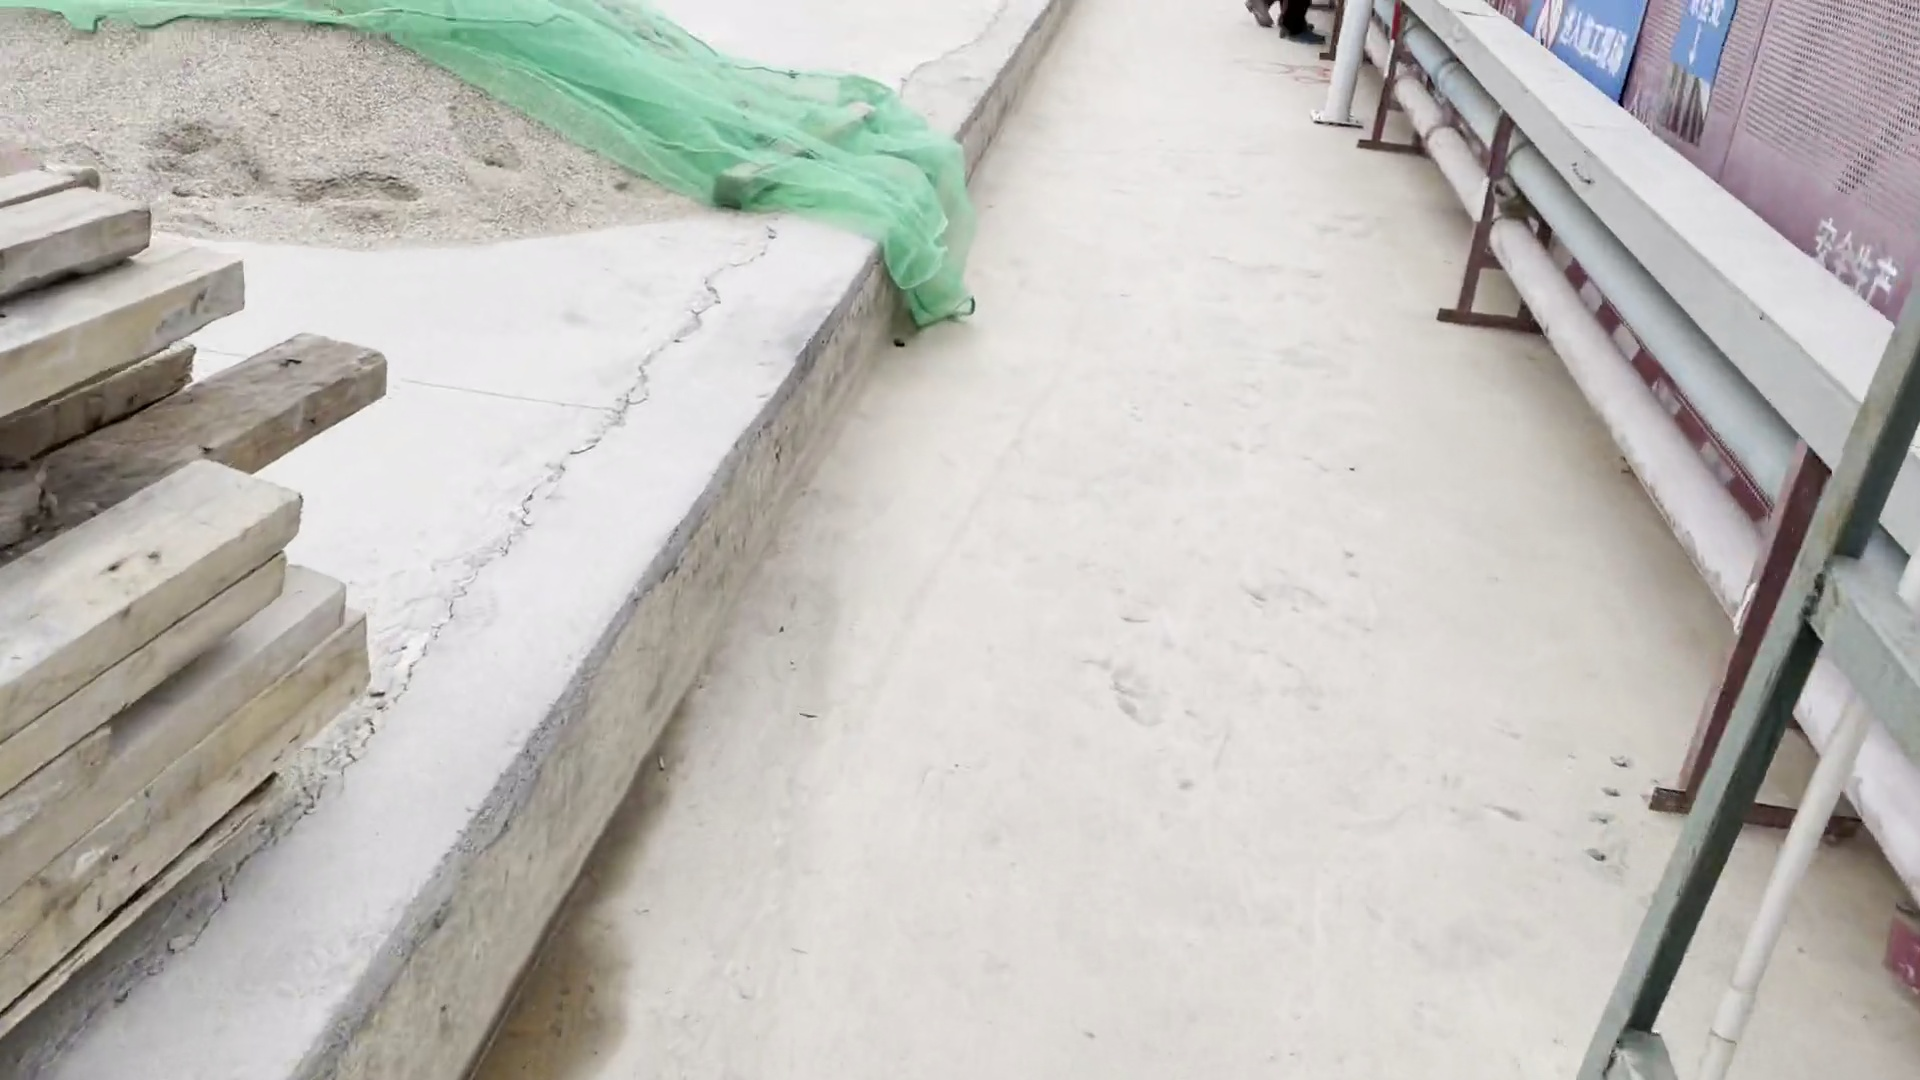fence: (1498, 1, 1920, 349)
slogan: (1519, 1, 1782, 185)
wood: (1, 142, 433, 1048)
